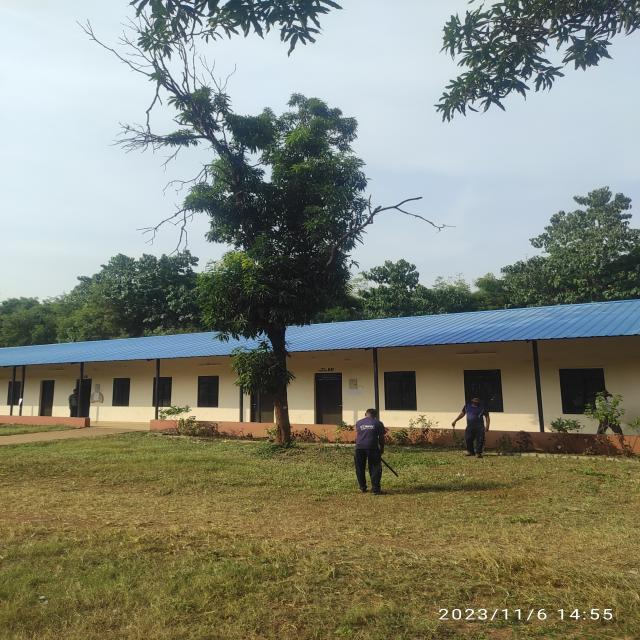Mango Tree: (202, 105, 375, 428)
